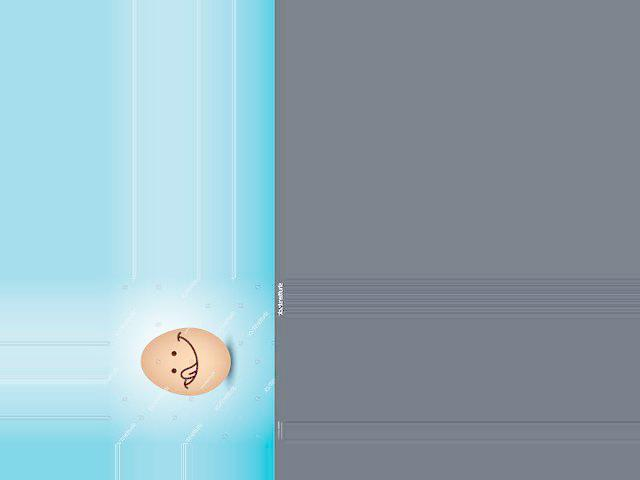egg: (140, 327, 231, 396)
